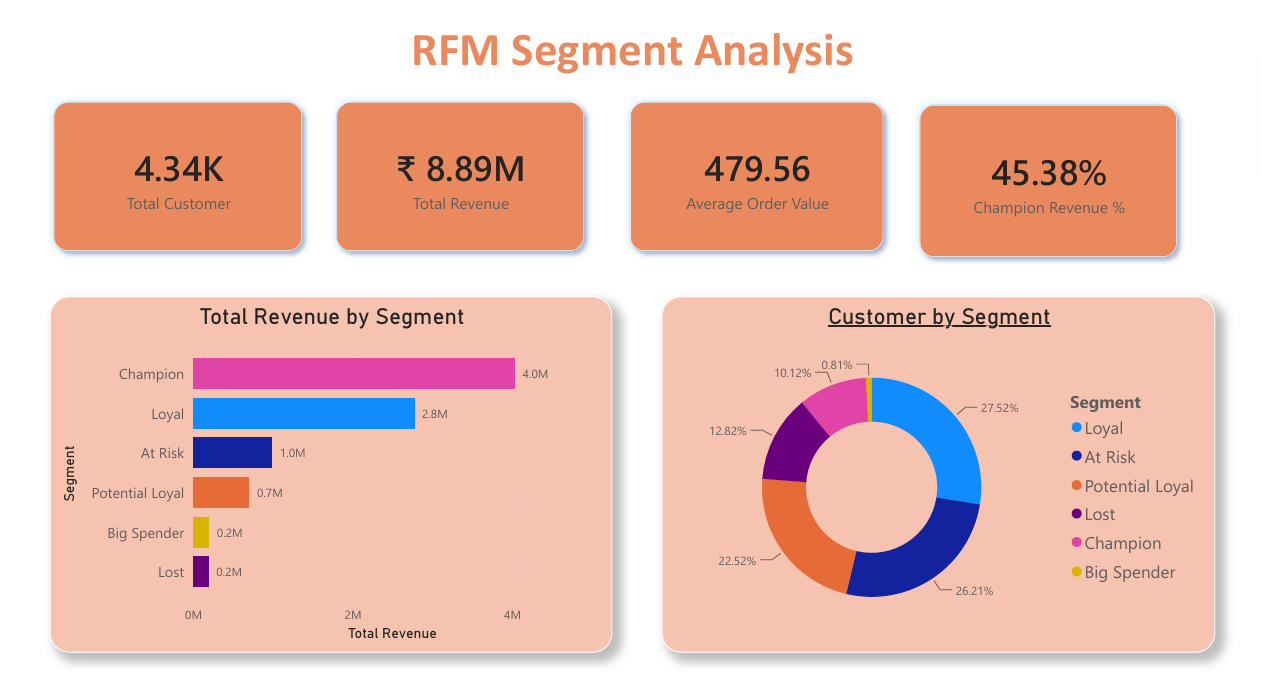

The dashboard page shown, as its layout file describes it:
{"tool":"powerbi","page":{"name":"Executive Overview","canvas":[1280,720],"ordinal":0},"visuals":[{"type":"cardVisual","fields":{"Data":["rfm_customer_segmented.Total_Revenue"]},"box":[310.2,60,310.2,210.7],"z":0},{"type":"cardVisual","fields":{"Data":["rfm_customer_segmented.Avg_Order_Value"]},"box":[608.8,60,316.1,210.7],"z":1000},{"type":"cardVisual","fields":{"Data":["rfm_customer_segmented.Total_Customer"]},"box":[22,60,311.7,210.7],"z":2000},{"type":"cardVisual","fields":{"Data":["rfm_customer_segmented.Champion_Revenue_Pct"]},"box":[904.4,60,329.3,226.8],"z":3000},{"type":"clusteredBarChart","fields":{"Category":["rfm_customer_segmented.Segment"],"Y":["rfm_customer_segmented.Total_Revenue"]},"box":[46.8,286.8,573.7,362.9],"z":4000},{"type":"donutChart","title":"Customer by Segment","fields":{"Y":["rfm_customer_segmented.Total_Customer"],"Category":["rfm_customer_segmented.Segment"]},"box":[670.2,286.8,563.4,362.9],"z":5000},{"type":"textbox","box":[46.8,0,1186.8,76.1],"z":6000}]}

Visuals, with their boxes in screenshot pixels (x1, y1, x2, y2), scaled from the page's 1280x720 canvas onto the 1262x695 screenshot:
cardVisual - rfm_customer_segmented.Total_Revenue: x1=306 y1=58 x2=612 y2=261
cardVisual - rfm_customer_segmented.Avg_Order_Value: x1=600 y1=58 x2=912 y2=261
cardVisual - rfm_customer_segmented.Total_Customer: x1=22 y1=58 x2=329 y2=261
cardVisual - rfm_customer_segmented.Champion_Revenue_Pct: x1=892 y1=58 x2=1216 y2=277
clusteredBarChart - rfm_customer_segmented.Segment x rfm_customer_segmented.Total_Revenue: x1=46 y1=277 x2=612 y2=627
"Customer by Segment" donutChart: x1=661 y1=277 x2=1216 y2=627
textbox: x1=46 y1=0 x2=1216 y2=73
